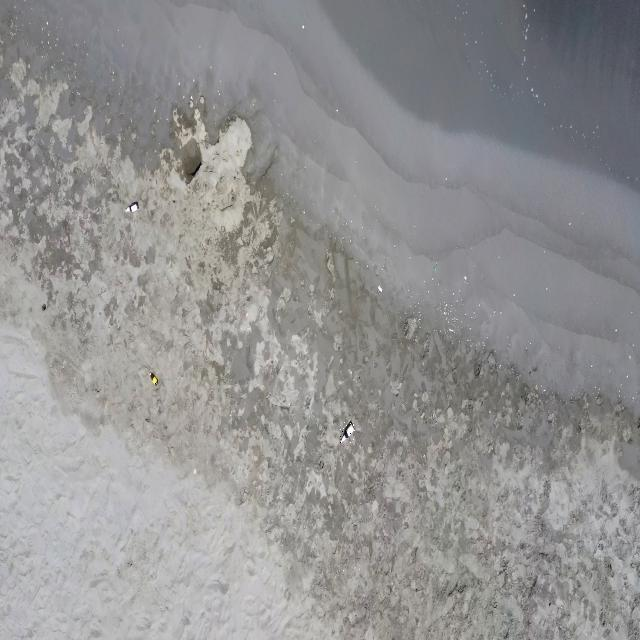glass: (340, 420, 355, 444), (125, 201, 139, 213), (149, 372, 158, 386)
